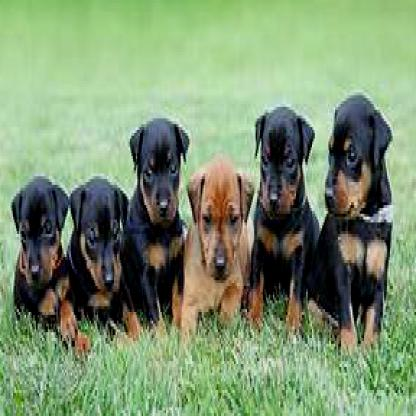dog: (314, 92, 398, 350), (248, 101, 316, 327), (126, 118, 189, 338), (182, 159, 254, 344), (68, 173, 130, 352), (9, 173, 69, 344)
